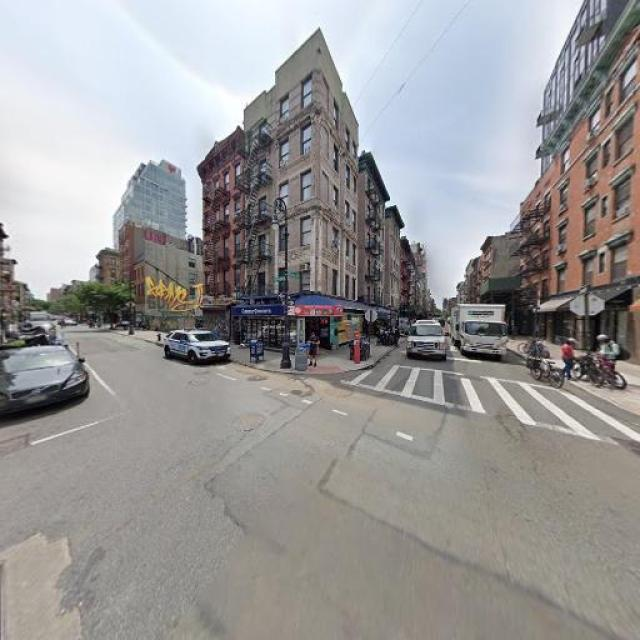Building: (208, 50, 382, 354), (532, 45, 640, 374)
